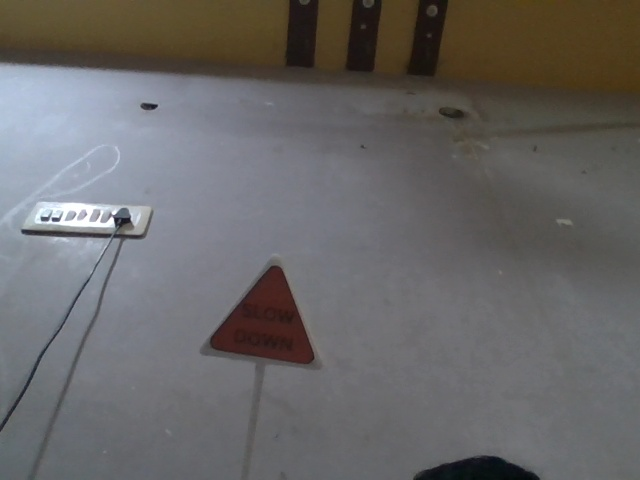slowdown: (199, 253, 324, 377)
